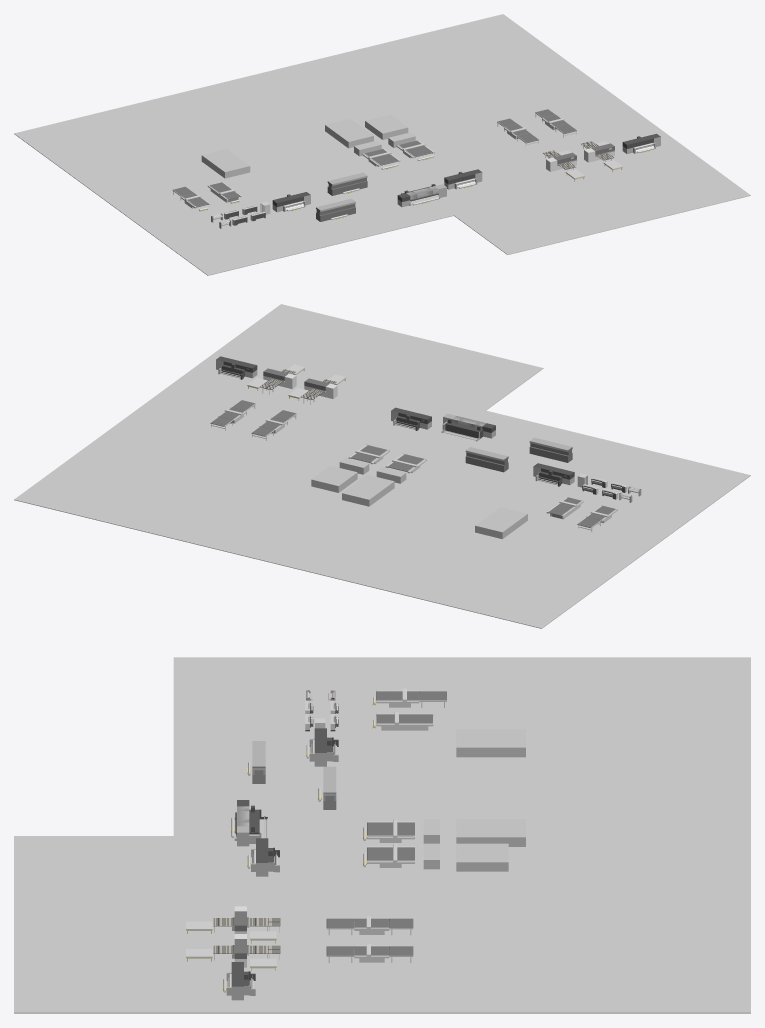
3 renders of one model, top to bottom at view 1: azimuth 30°, elevation 25°; view 2: azimuth 150°, elevation 25°; view 3: azimuth 270°, elevation 25°, orthographic. The views are drawn at different scales.
Visible parts, largest first — view 1: Geom3D_bh-floor_bh-floor, Geom3D_bh-na-hemmingtable-m_bhna-hemmingtable-1 (×2), Geom3D_bh-na-hemmingtable-s_bhna-hemmingtable-2, Geom3D; view 2: Geom3D_bh-floor_bh-floor, Geom3D_bh-na-hemmingtable-m_bhna-hemmingtable-1 (×2), Geom3D, Geom3D_bh-na-hemmingtable-s_bhna-hemmingtable-2; view 3: Geom3D_bh-floor_bh-floor, Geom3D (×7), Geom3D_bh-na-hemmingtable-m_bhna-hemmingtable-1 (×2), Geom3D_bh-na-hemmingtable-s_bhna-hemmingtable-2.
Part boxes in pixels (bbox=[...]): Geom3D_bh-floor_bh-floor: bbox=[14, 14, 750, 275]; Geom3D_bh-na-hemmingtable-m_bhna-hemmingtable-1 (×2): bbox=[201, 118, 373, 178]; Geom3D_bh-na-hemmingtable-s_bhna-hemmingtable-2: bbox=[365, 114, 408, 139]; Geom3D: bbox=[14, 133, 453, 275]; Geom3D_bh-floor_bh-floor: bbox=[14, 304, 750, 628]; Geom3D_bh-na-hemmingtable-m_bhna-hemmingtable-1 (×2): bbox=[342, 474, 527, 538]; Geom3D: bbox=[14, 475, 750, 628]; Geom3D_bh-na-hemmingtable-s_bhna-hemmingtable-2: bbox=[311, 465, 357, 492]; Geom3D_bh-floor_bh-floor: bbox=[14, 657, 750, 1012]; Geom3D (×7): bbox=[14, 691, 750, 1013]; Geom3D_bh-na-hemmingtable-m_bhna-hemmingtable-1 (×2): bbox=[456, 729, 525, 846]; Geom3D_bh-na-hemmingtable-s_bhna-hemmingtable-2: bbox=[456, 843, 508, 871].
Bounding box in the file's own units: 96.28 × 2.3 × 84.4.
20 materials, 1 textured.
